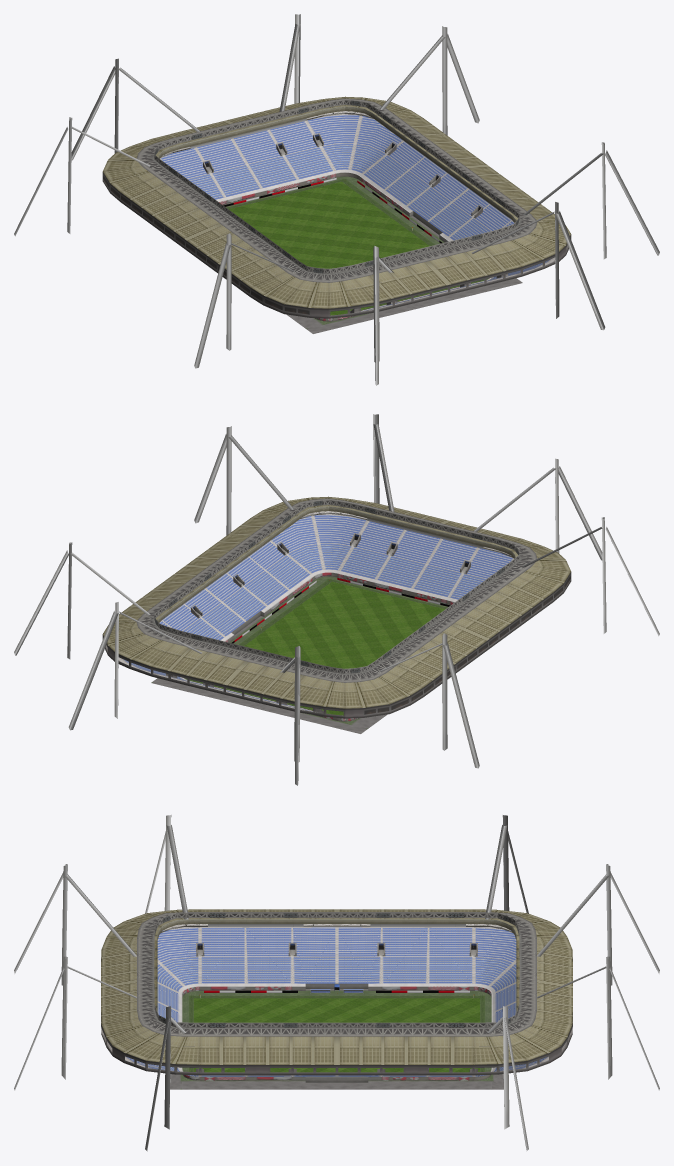
Rendered from st_040_stadium.fbx.
3 views of the same model, one above another, from view 1: azimuth 30°, elevation 25°; view 2: azimuth 150°, elevation 25°; view 3: azimuth 270°, elevation 25° (orthographic). The views are drawn at different scales.
Parts seen in each view (by area): view 1: st_040_Stadium; view 2: st_040_Stadium; view 3: st_040_Stadium.
Boxes of the visible parts, x1,y1,x2,y2 form: st_040_Stadium: (14,14,659,385); st_040_Stadium: (14,414,659,785); st_040_Stadium: (14,815,659,1151).
Bounding box in the file's own units: 217 × 53.03 × 248.
